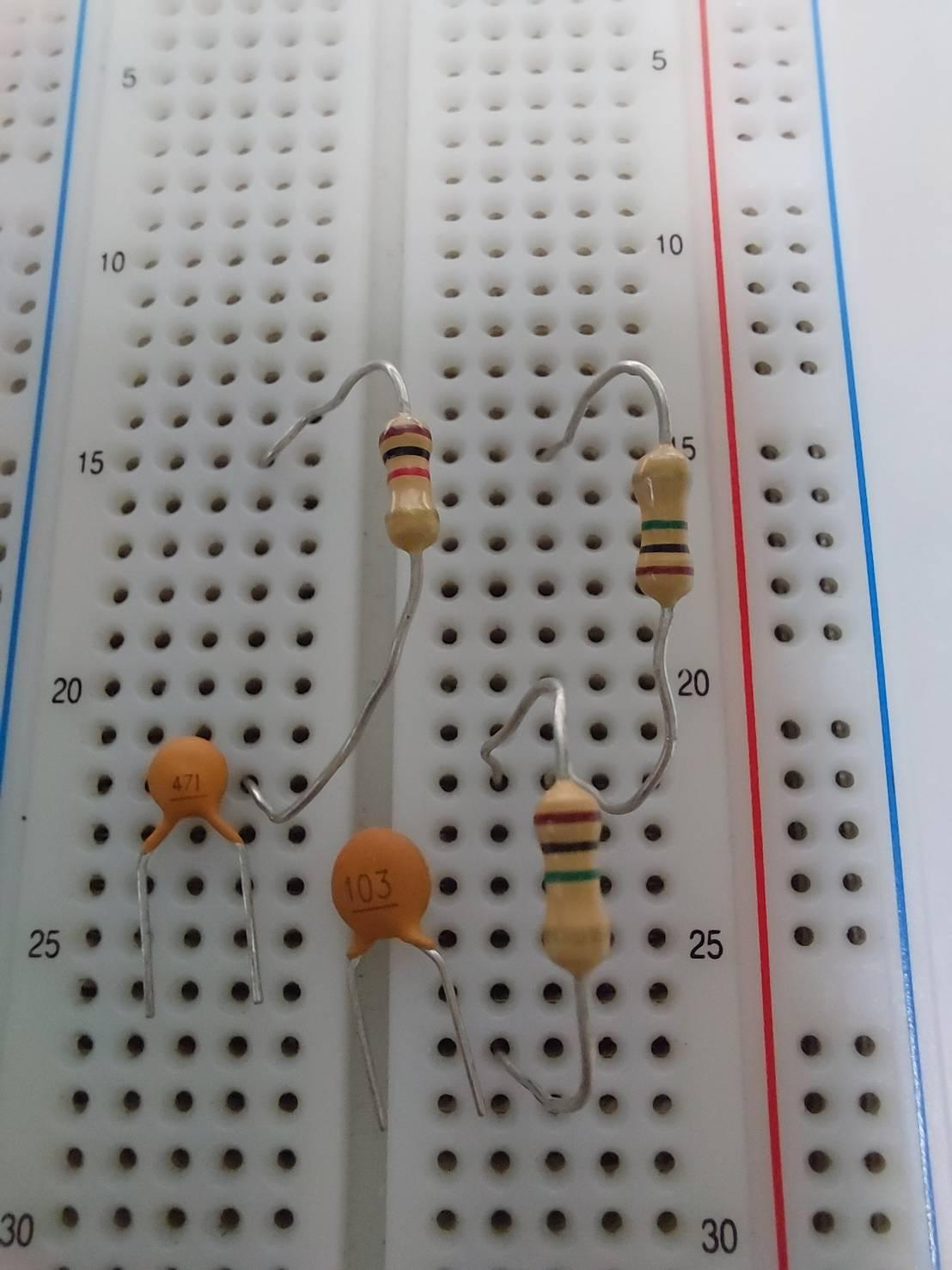resistor: (533, 782, 621, 973), (631, 445, 705, 602), (376, 413, 452, 561)
